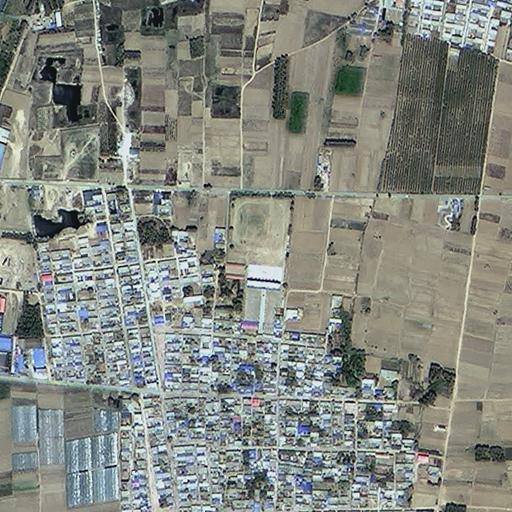school: (231, 193, 289, 335)
